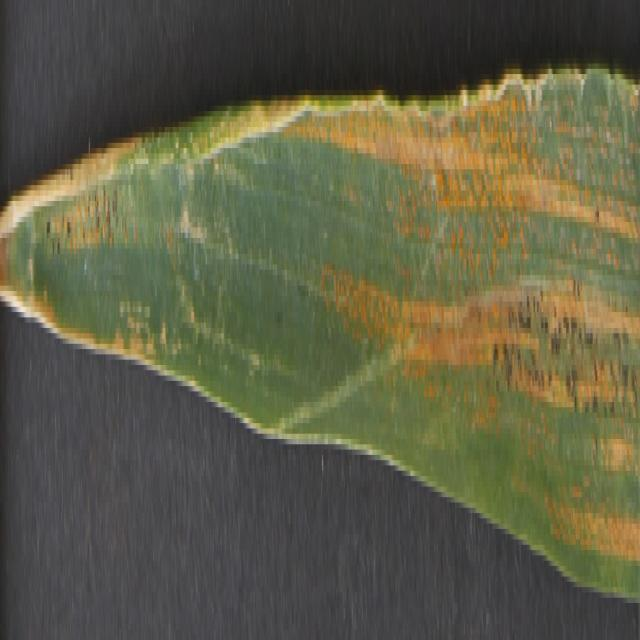leaf rust: (282, 80, 638, 608)
